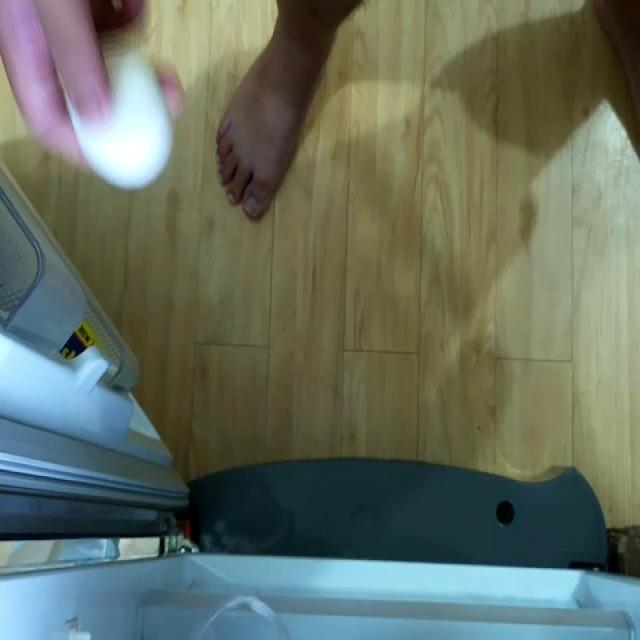egg: (62, 61, 174, 184)
